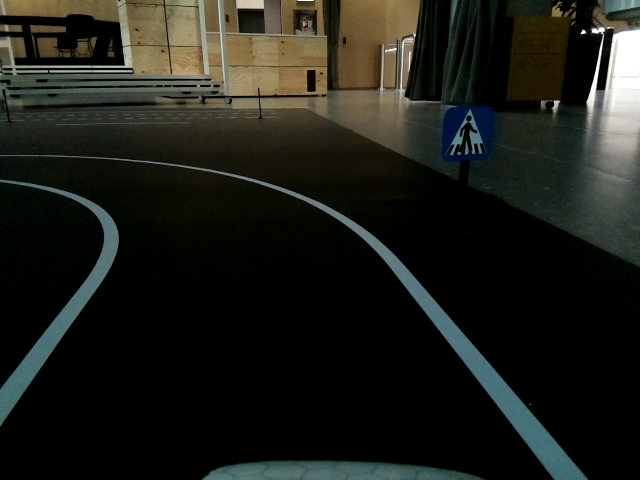pedestrians: (442, 109, 494, 160)
